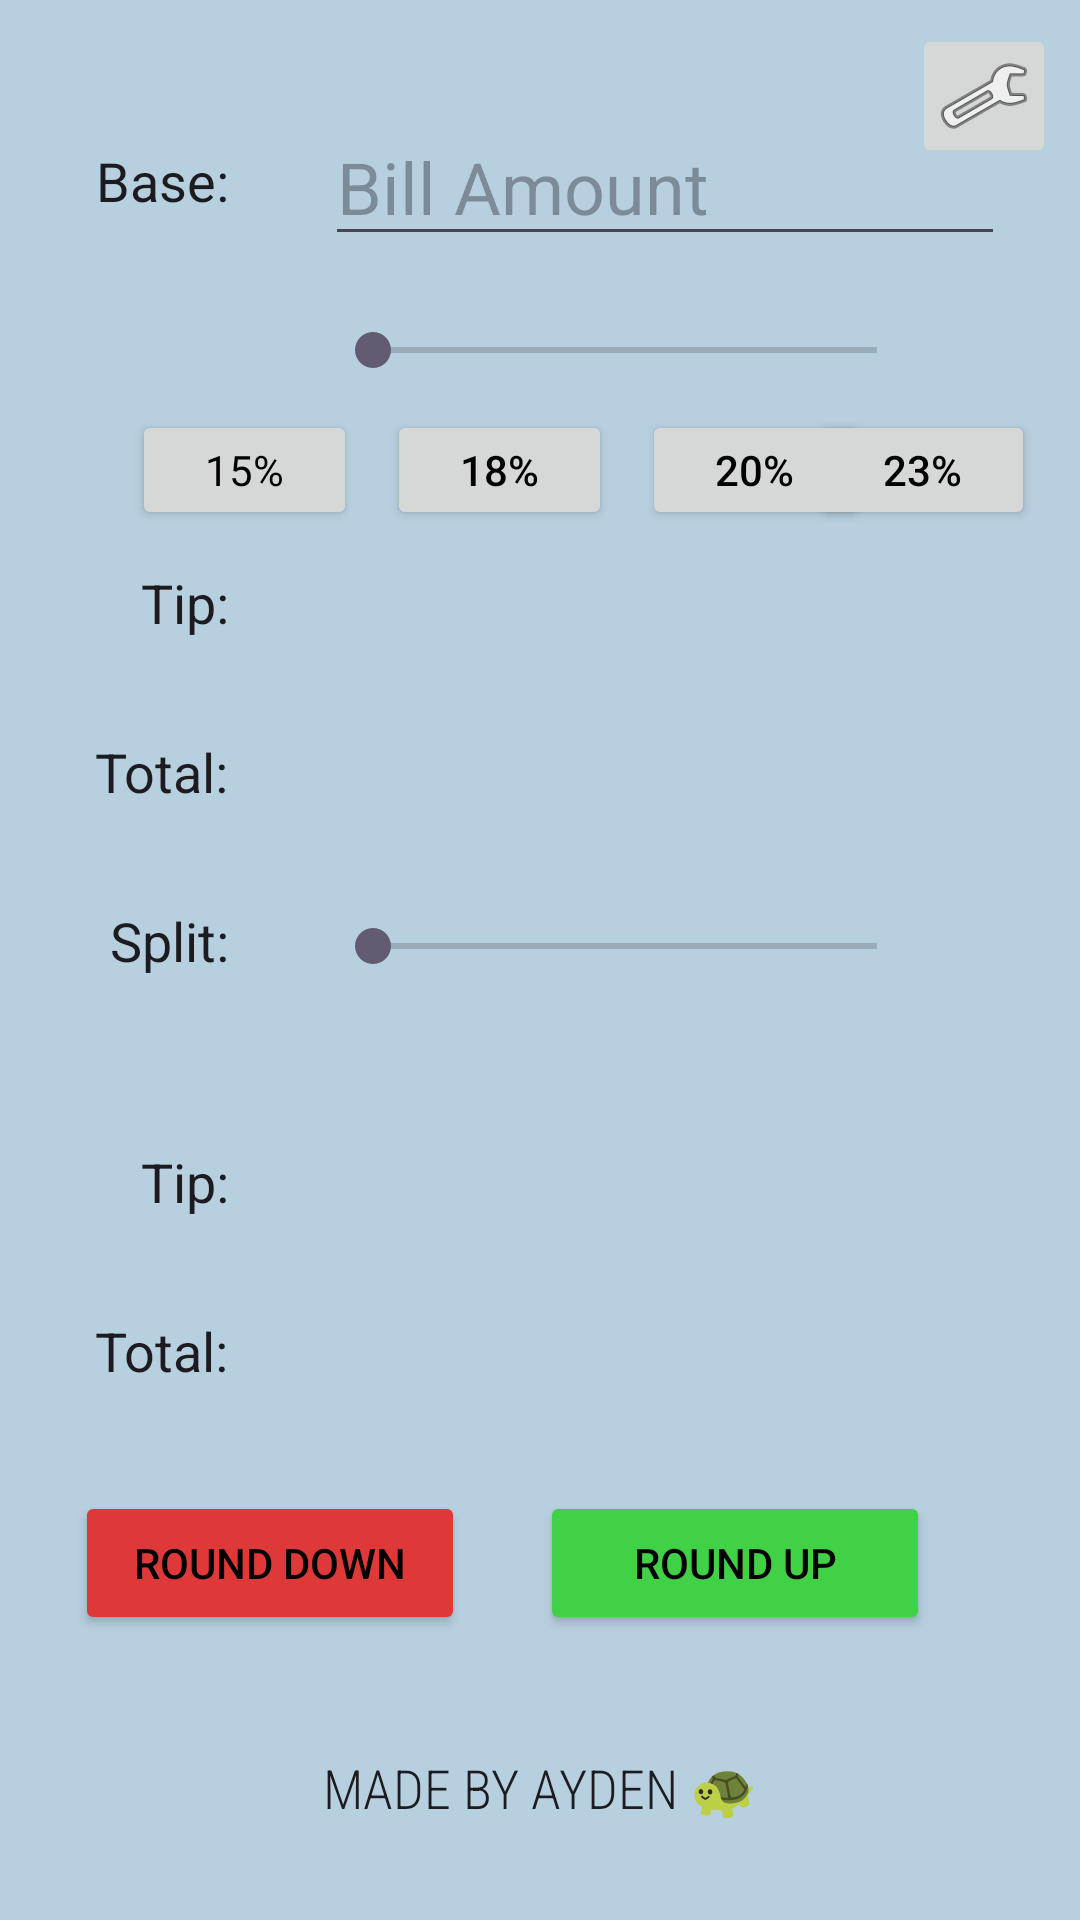

Icons on this 1080 × 1920 Android screen, each with its box as (x1, y1, x2, y2):
settings: (924, 42, 1044, 150)
